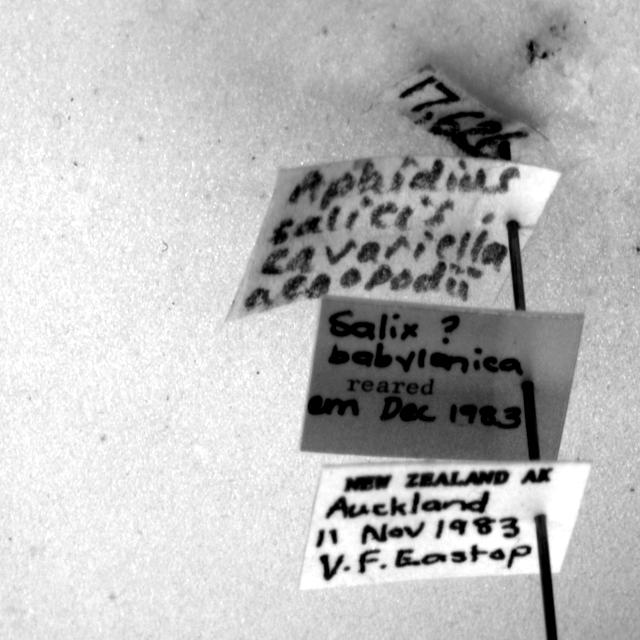hand_label: (226, 156, 560, 321), (379, 64, 546, 161)
mixed_label: (301, 300, 582, 461), (300, 461, 591, 589)
